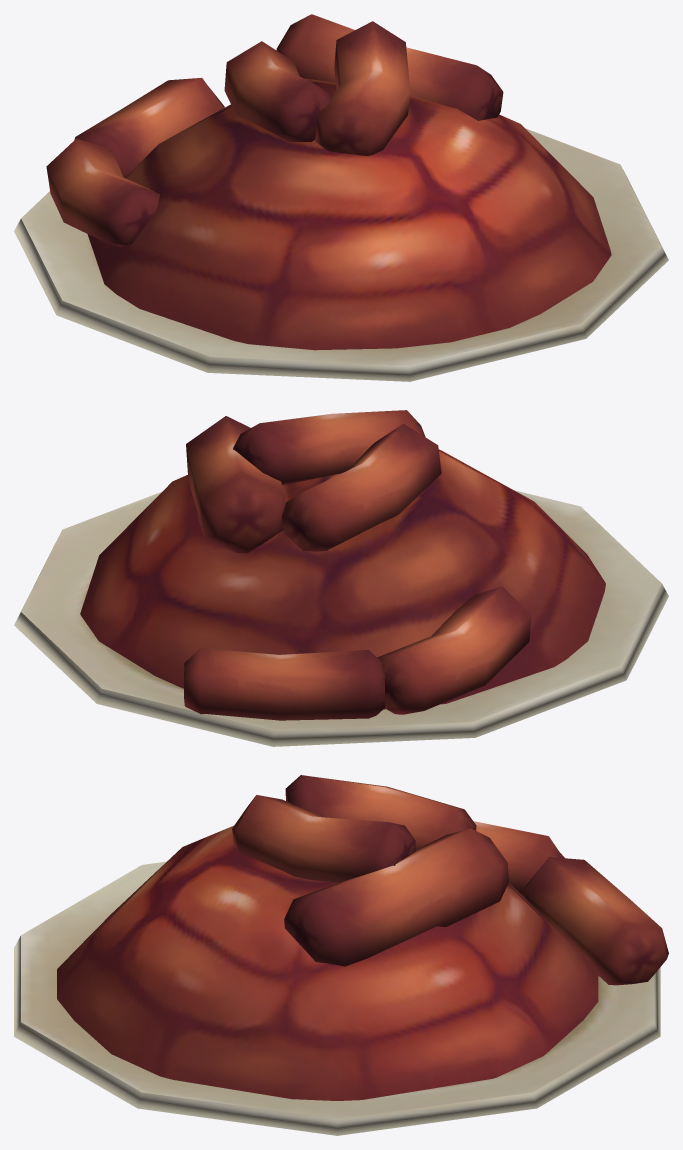
File: Sausage_Dish.fbx
The picture shows the model from 3 angles, top to bottom: view 1: azimuth 30°, elevation 25°; view 2: azimuth 150°, elevation 25°; view 3: azimuth 270°, elevation 25°; orthographic projection. The views are drawn at different scales.
Parts seen in each view (by area): view 1: Sausage_Dish; view 2: Sausage_Dish; view 3: Sausage_Dish.
Part boxes in pixels (<box>): Sausage_Dish: <box>14,14,668,381</box>; Sausage_Dish: <box>14,410,668,746</box>; Sausage_Dish: <box>14,775,668,1135</box>.
Size of the model in its own units: 0.6242 by 0.2276 by 0.6013.
1 material, 1 textured.
